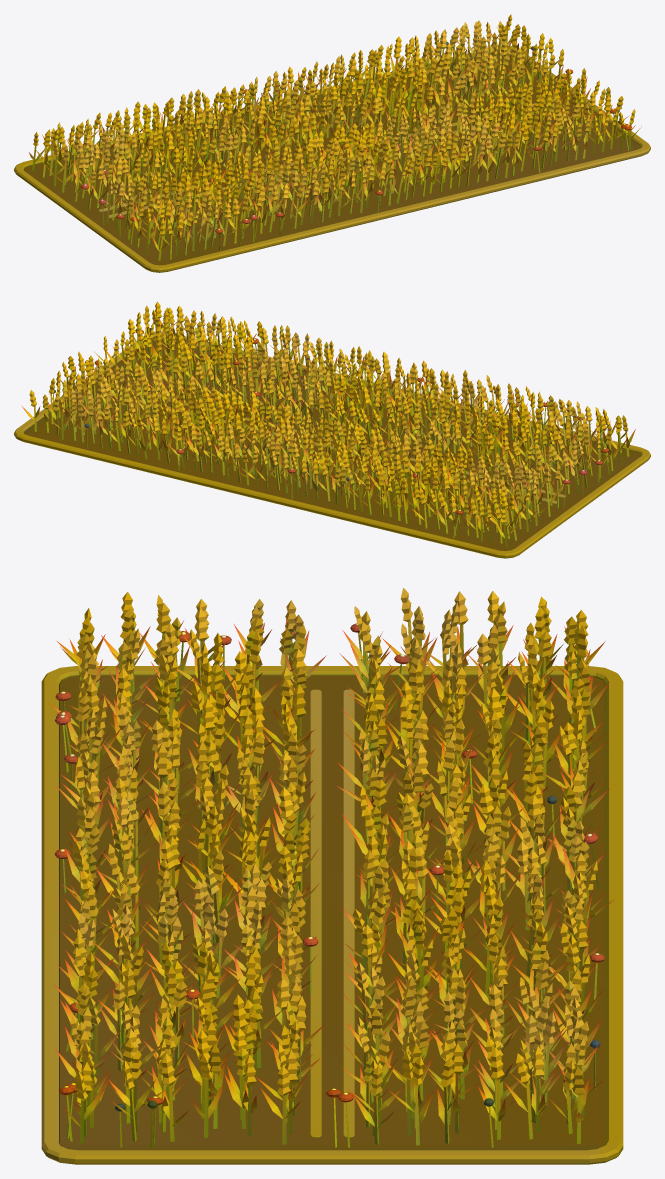
File: Farm_WheatField_12x6m.fbx
3 views of the same model, one above another, from view 1: azimuth 30°, elevation 25°; view 2: azimuth 150°, elevation 25°; view 3: azimuth 270°, elevation 25° (orthographic). The views are drawn at different scales.
Parts seen in each view (by area): view 1: Farm_WheatField_12x6m; view 2: Farm_WheatField_12x6m; view 3: Farm_WheatField_12x6m.
Part boxes in pixels (x1,y1,x2,y2): Farm_WheatField_12x6m: [14, 14, 650, 272]; Farm_WheatField_12x6m: [14, 301, 650, 558]; Farm_WheatField_12x6m: [41, 588, 623, 1164].
Bounding box in the file's own units: 12 × 1.21 × 6.
